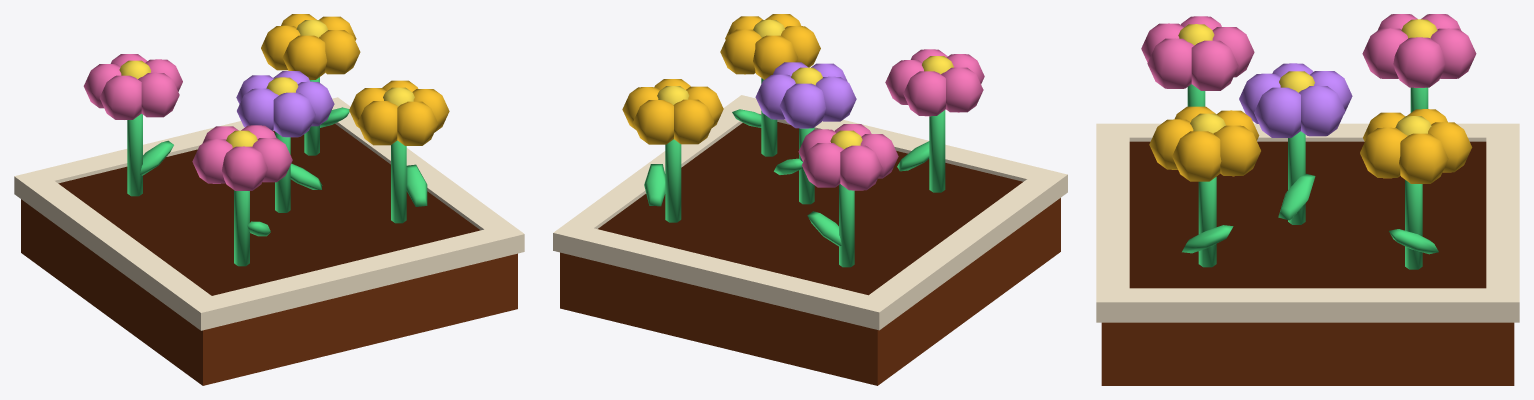
The model's file is build-flowers.glb.
The picture shows the model from 3 angles, left to right: view 1: azimuth 30°, elevation 25°; view 2: azimuth 150°, elevation 25°; view 3: azimuth 270°, elevation 25°; orthographic projection. The views are drawn at different scales.
Parts seen in each view (by area): view 1: build-flowers; view 2: build-flowers; view 3: build-flowers.
Boxes of the visible parts, x1,y1,x2,y2 form: build-flowers: (14,14,524,385); build-flowers: (553,14,1067,385); build-flowers: (1096,14,1519,385).
Size of the model in its own units: 0.76 by 0.46 by 0.76.
Materials: 1 (1 with a texture image).
